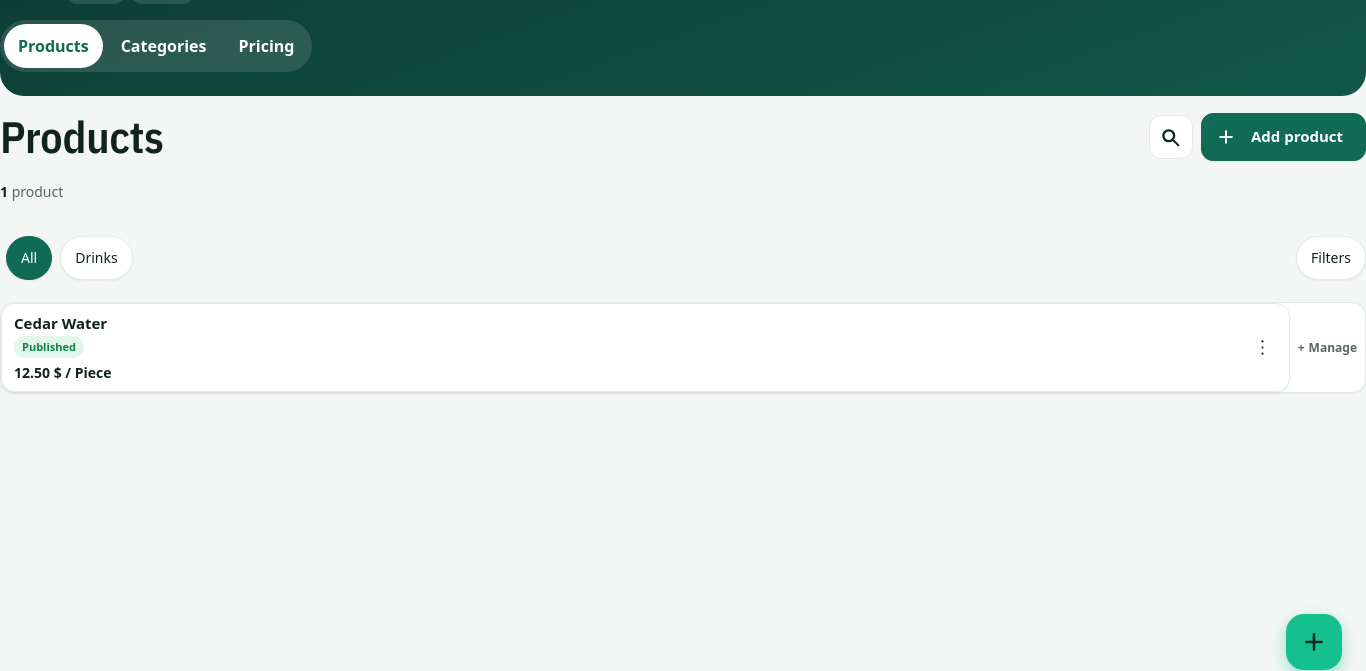
Test case: an owner edits a product's price and only the changed field is sent
Click the button "Cedar Water Published 12.50 $ / Piece": (61, 323) [2, 304, 1241, 392]
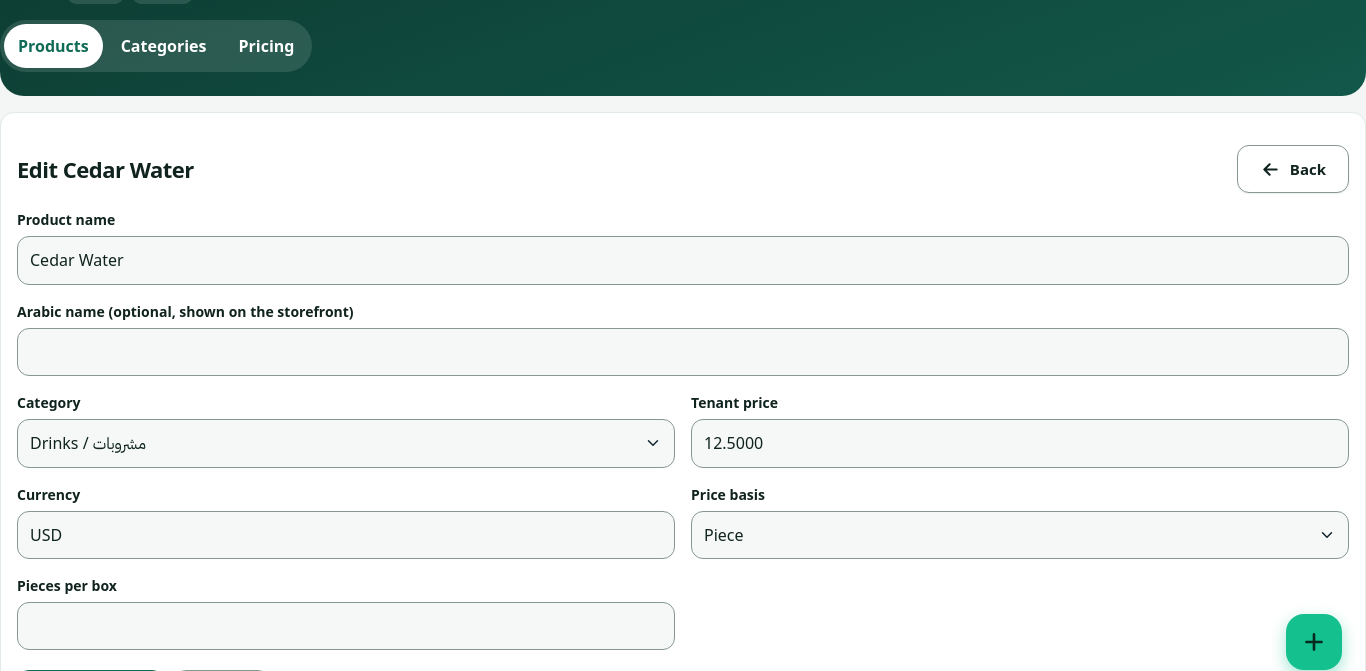
Check: the field labelled "Arabic name (optional, shown on the storefront)" is empty, box [17, 328, 1349, 376]
Check: the number field labelled "Tenant price" holds "12.5"
Replace the text in the number field labelled "Tenant price" with "13": (1020, 443) [691, 419, 1349, 468]
(page scrolled)
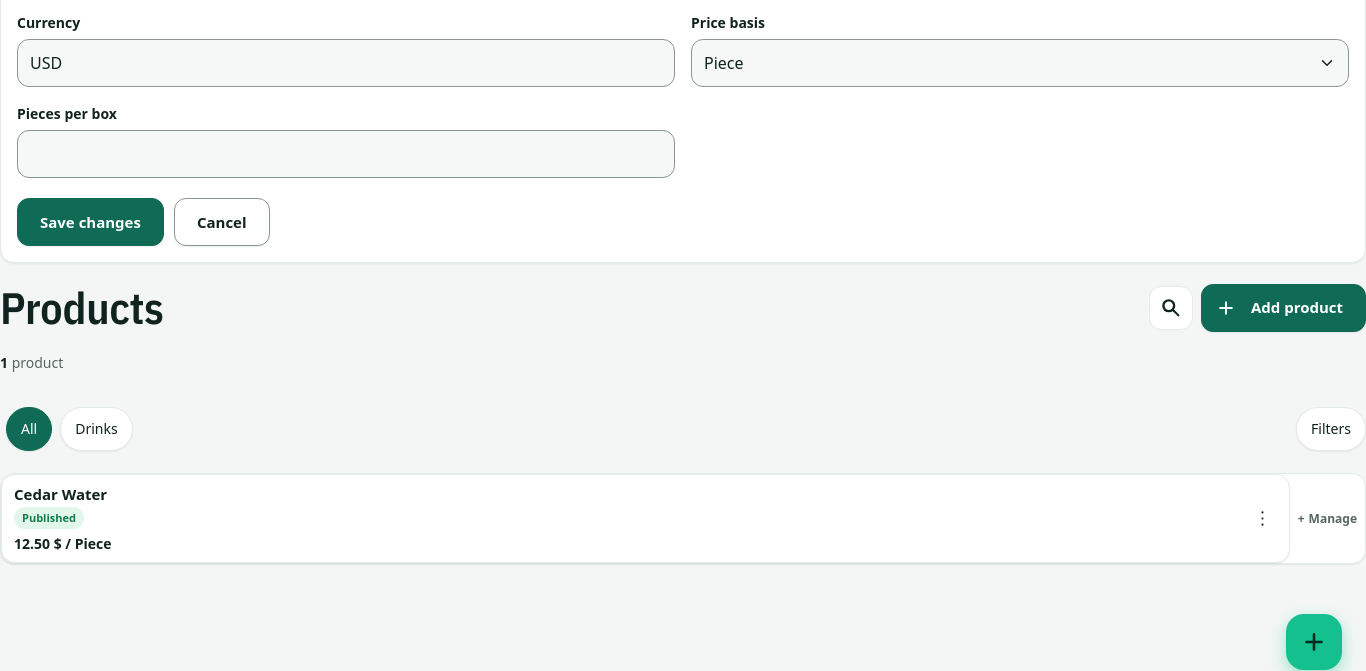
Click the button "Save changes": (90, 222) [17, 198, 164, 246]
(page scrolled)
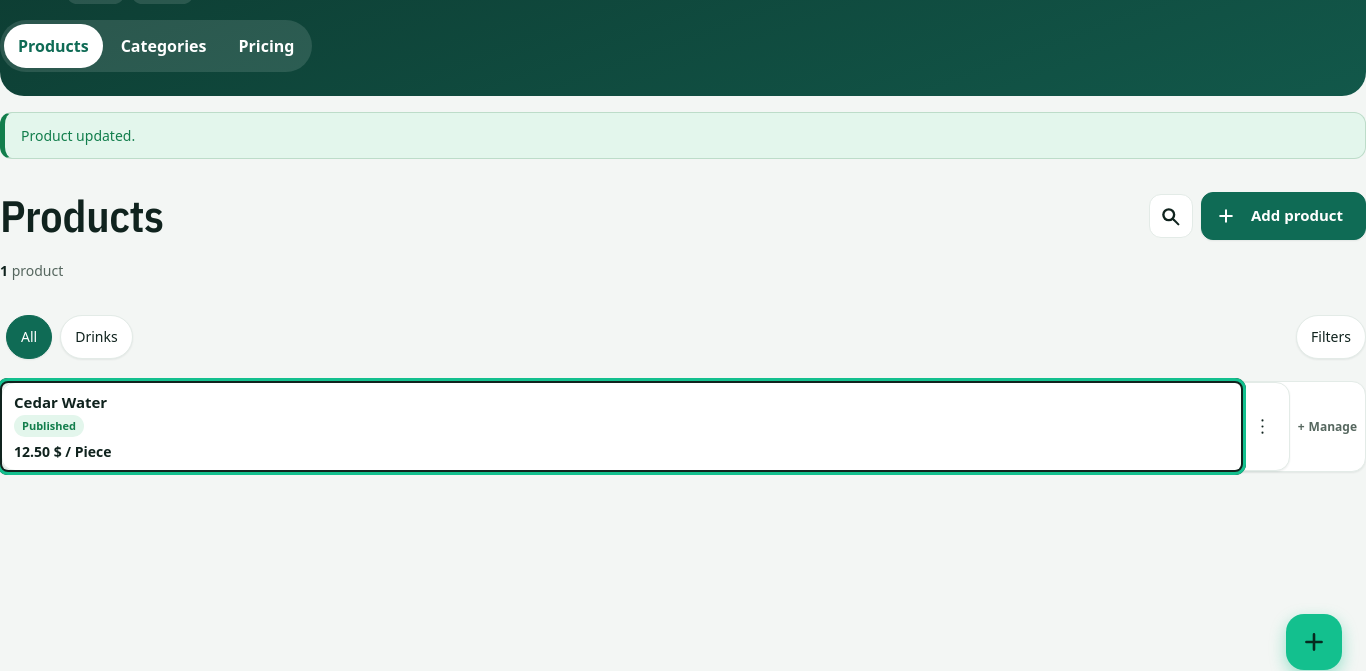
Check: the text "Product updated." is shown, box [0, 112, 1365, 159]
